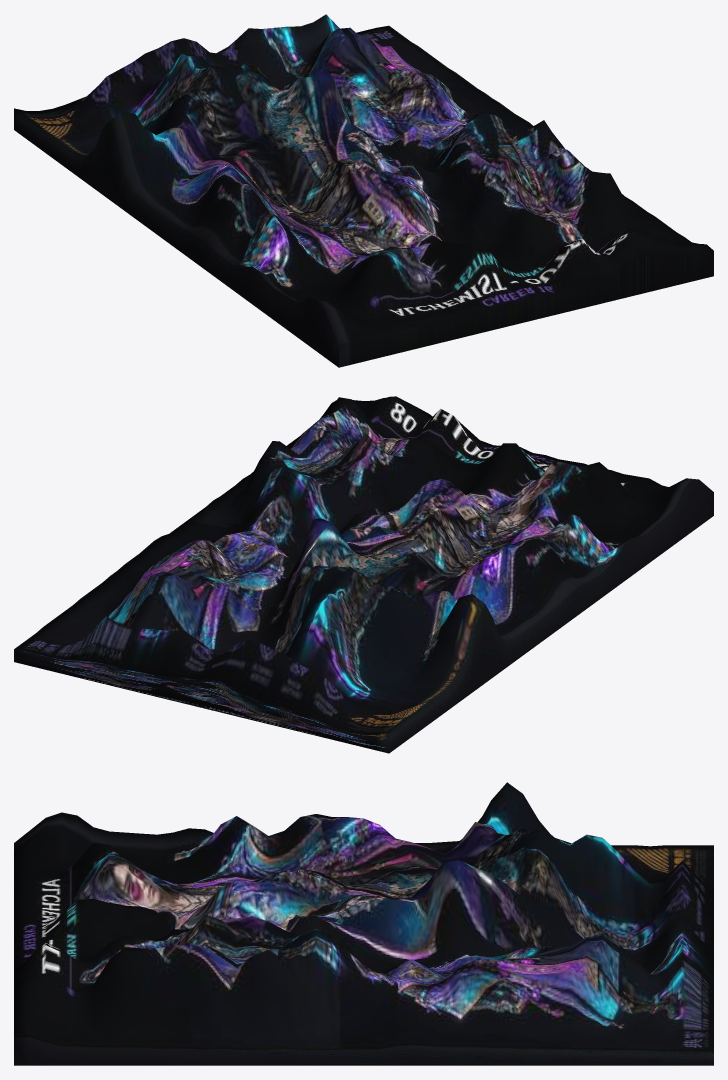
Rendered from CAREER_16_Outfit_08_Festival.glb.
3 renders of one model, top to bottom at view 1: azimuth 30°, elevation 25°; view 2: azimuth 150°, elevation 25°; view 3: azimuth 270°, elevation 25°, orthographic. The views are drawn at different scales.
Visible parts, largest first — view 1: CAREER_16_Outfit_08_Festival; view 2: CAREER_16_Outfit_08_Festival; view 3: CAREER_16_Outfit_08_Festival.
Boxes of the visible parts, left/top/right/bottom form: CAREER_16_Outfit_08_Festival: left=14, top=14, right=713, bottom=367; CAREER_16_Outfit_08_Festival: left=14, top=396, right=713, bottom=753; CAREER_16_Outfit_08_Festival: left=14, top=782, right=713, bottom=1065.
Bounding box in the file's own units: 2 × 0.51 × 3.
Materials: 1 (1 with a texture image).
